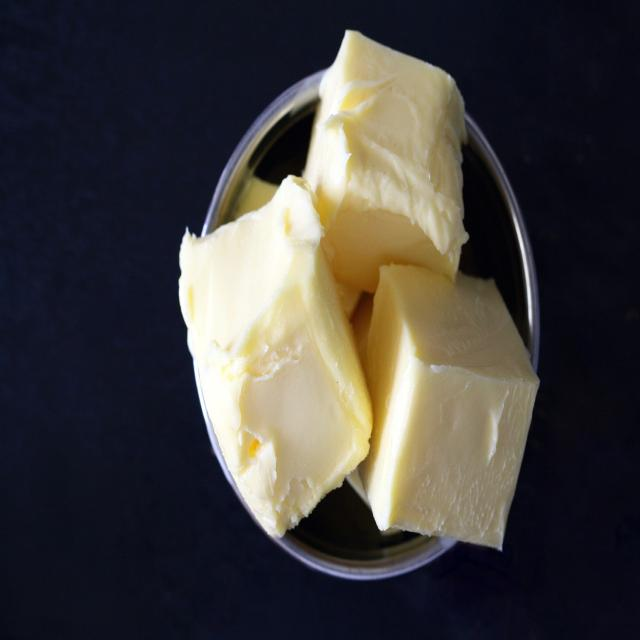Butter: (176, 189, 374, 528), (366, 270, 532, 550), (304, 30, 466, 278)
